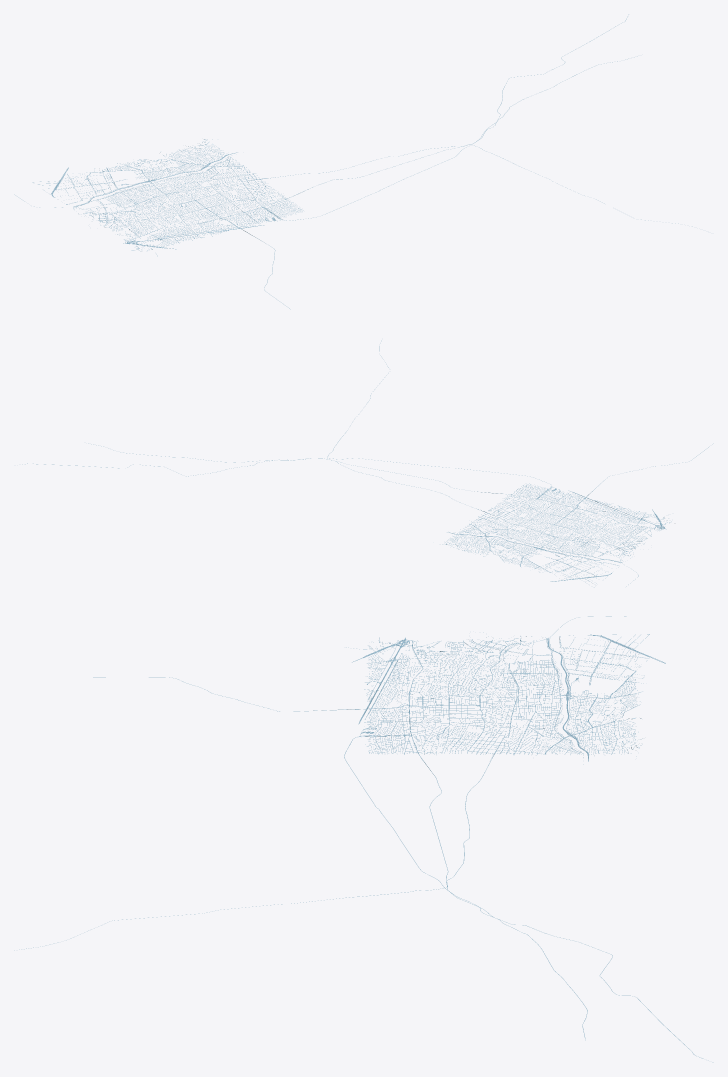
File: roads.glb
3 views of the same model, one above another, from view 1: azimuth 30°, elevation 25°; view 2: azimuth 150°, elevation 25°; view 3: azimuth 270°, elevation 25° (orthographic). The views are drawn at different scales.
Parts seen in each view (by area): view 1: roads; view 2: roads; view 3: roads.
Part boxes in pixels (bbox=[...]): roads: bbox=[14, 14, 692, 309]; roads: bbox=[22, 340, 713, 587]; roads: bbox=[14, 616, 713, 1062].
Bounding box in the file's own units: 24442 × 161 × 16170.
